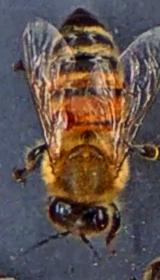varroa_mite: (43, 102, 86, 136)
